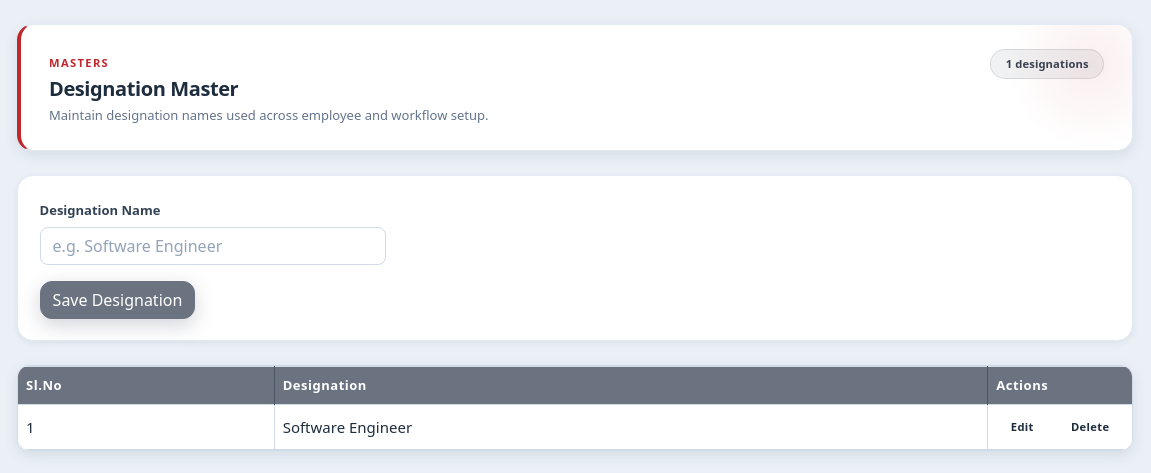
Test: edit mode › Cancel resets the form and hides Cancel button
The image size is (1151, 473).
expect the text "Software Engineer" is shown: met, box [274,405,988,450]
Click the button "Edit". click: (1022, 427)
box: [996,413,1048,442]
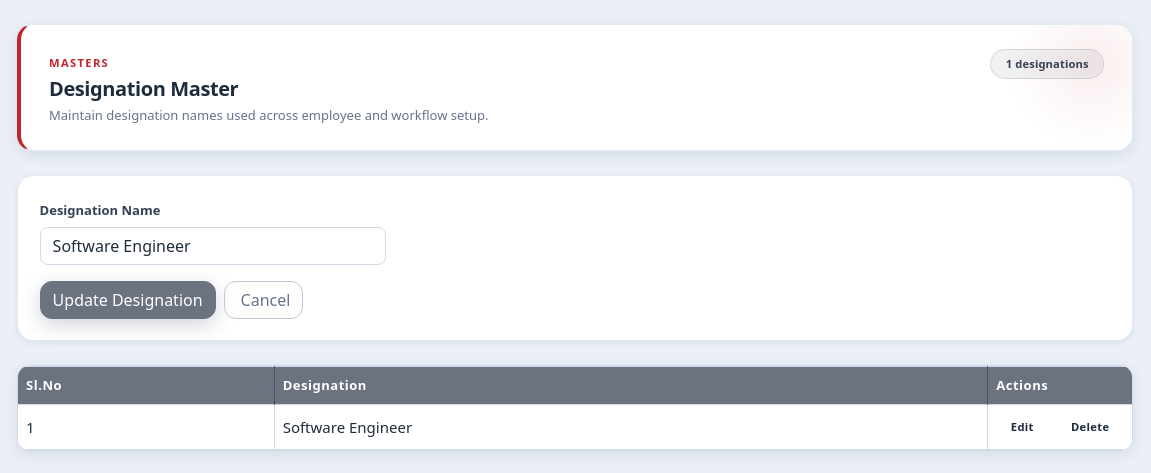
Click the button "Cancel". click: (264, 300)
box: [224,281,303,319]
(page scrolled)
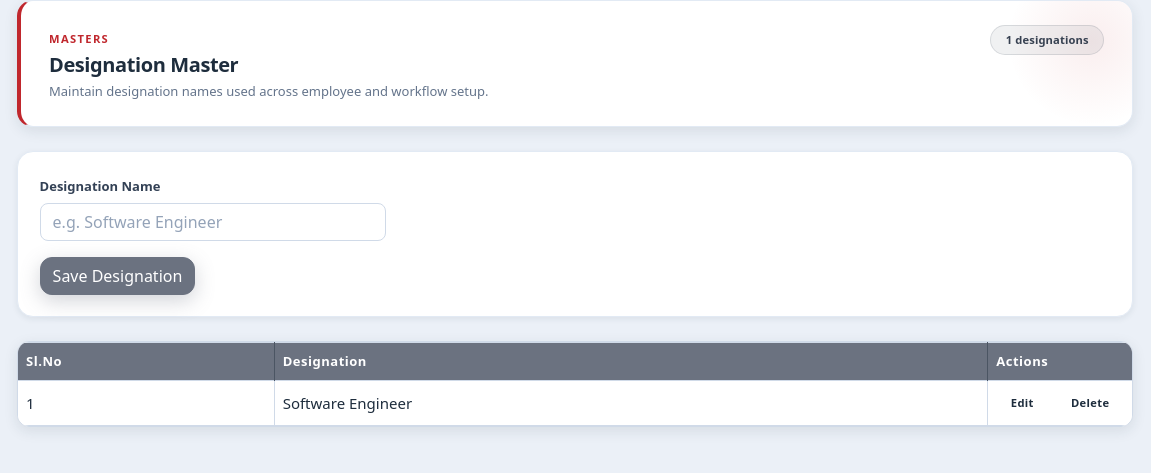
expect the button "Cancel" is gone: met
expect the field with placeholder "e.g. Software Engineer" is empty: met, box [40,203,386,241]
